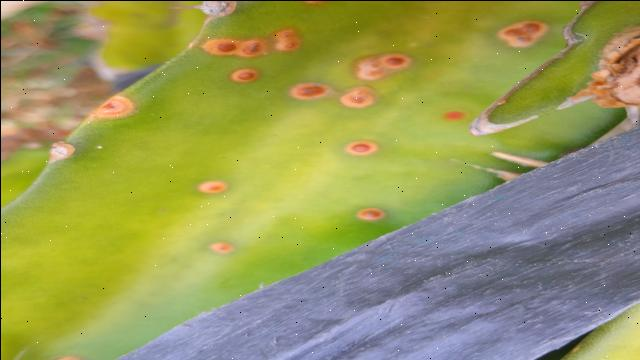stemcanker: (355, 51, 413, 82), (495, 19, 551, 50), (91, 94, 137, 121), (195, 34, 241, 60), (265, 24, 302, 56), (337, 84, 378, 110), (288, 80, 333, 103), (232, 34, 269, 61), (344, 138, 380, 158), (230, 65, 261, 86), (206, 239, 238, 258), (197, 178, 230, 196), (437, 108, 469, 124), (357, 206, 387, 223)
